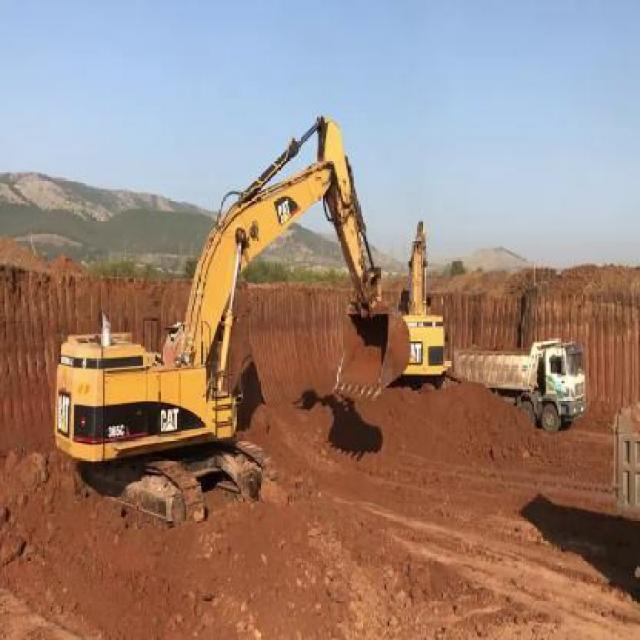Dump Truck: (448, 332, 587, 432)
Excavator: (52, 110, 410, 522), (396, 222, 450, 392)
